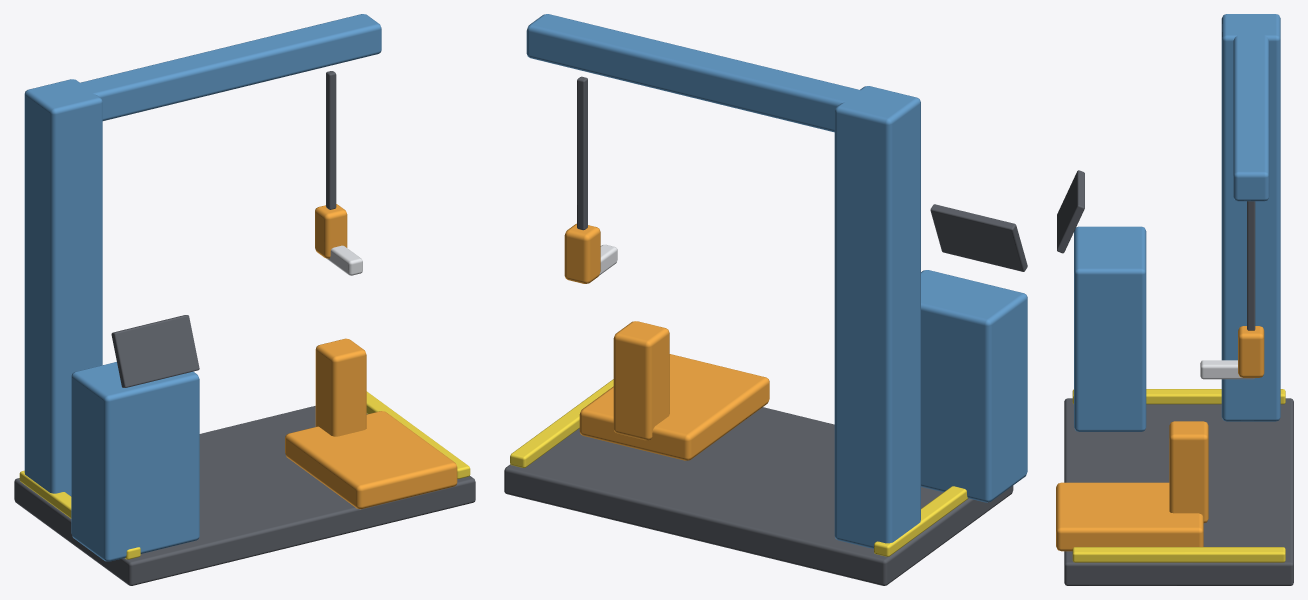
File: wheel-fitting-station.glb
3 views of the same model, side by side, from view 1: azimuth 30°, elevation 25°; view 2: azimuth 150°, elevation 25°; view 3: azimuth 270°, elevation 25° (orthographic). The views are drawn at different scales.
Visible parts, largest first — view 1: wheel-fitting-station, tyre-lift; view 2: wheel-fitting-station, tyre-lift; view 3: wheel-fitting-station, tyre-lift.
Boxes of the visible parts, <box> form: wheel-fitting-station: <box>14,14,475,585</box>; tyre-lift: <box>285,338,457,509</box>; wheel-fitting-station: <box>504,14,1027,585</box>; tyre-lift: <box>579,321,769,460</box>; wheel-fitting-station: <box>1057,14,1293,585</box>; tyre-lift: <box>1056,421,1208,551</box>.
Size of the model in its own units: 2.53 by 2.76 by 1.45.
